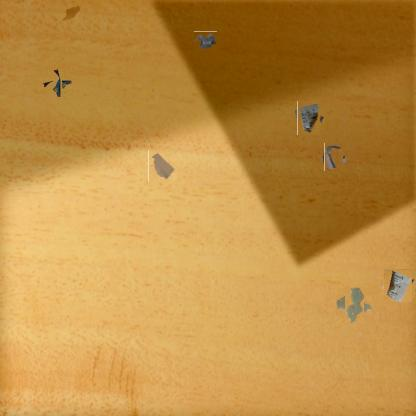dirty: (383, 270, 414, 300), (148, 150, 177, 182), (295, 104, 323, 133), (322, 146, 346, 169), (193, 31, 217, 50), (47, 74, 67, 93)
liquid: (340, 291, 368, 319), (60, 5, 82, 21)
